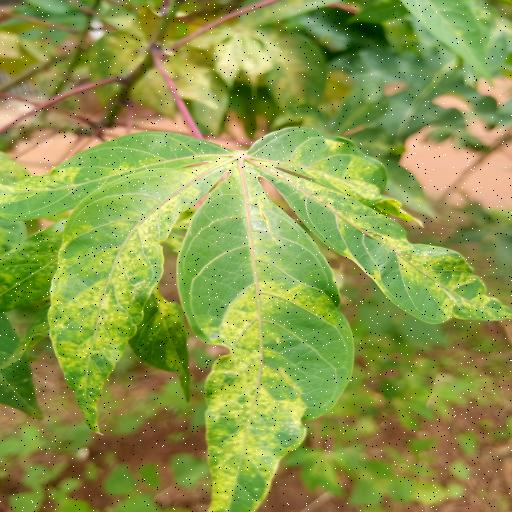Cassava_Mosaic: (5, 118, 508, 512)
